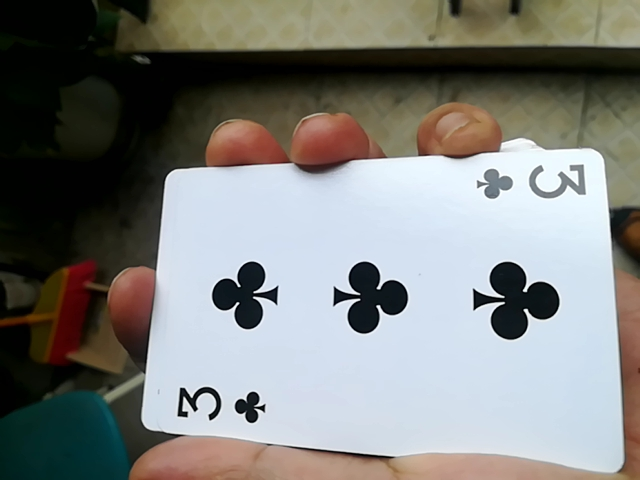mh 3: (130, 151, 620, 473)
